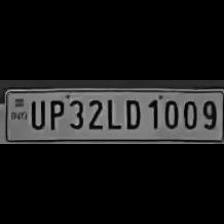0: (160, 96, 180, 130), (180, 98, 198, 130)
1: (144, 96, 160, 130)
2: (86, 97, 104, 131)
3: (66, 96, 84, 130)
9: (198, 96, 218, 130)
D: (121, 96, 143, 130)
L: (104, 96, 122, 130)
P: (46, 97, 64, 131)
U: (27, 96, 45, 130)
